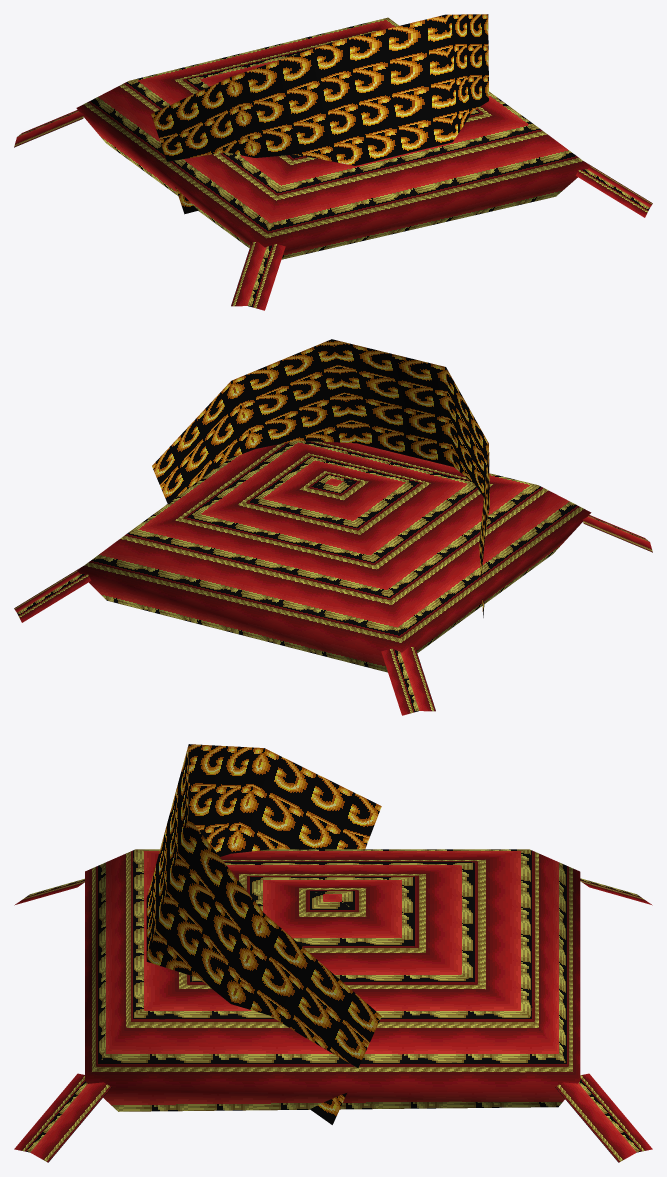
File: 5581uc_ac_hed0.gltf
3 views of the same model, one above another, from view 1: azimuth 30°, elevation 25°; view 2: azimuth 150°, elevation 25°; view 3: azimuth 270°, elevation 25° (orthographic). The views are drawn at different scales.
Visible parts, largest first — view 1: 5581uc_ac_hed0; view 2: 5581uc_ac_hed0; view 3: 5581uc_ac_hed0.
Boxes of the visible parts, x1=… form: 5581uc_ac_hed0: x1=14, y1=14, x2=652, y2=310; 5581uc_ac_hed0: x1=14, y1=339, x2=652, y2=715; 5581uc_ac_hed0: x1=14, y1=744, x2=652, y2=1162.
Bounding box in the file's own units: 0.998 × 0.4944 × 0.9946.
Materials: 4 (4 with a texture image).
